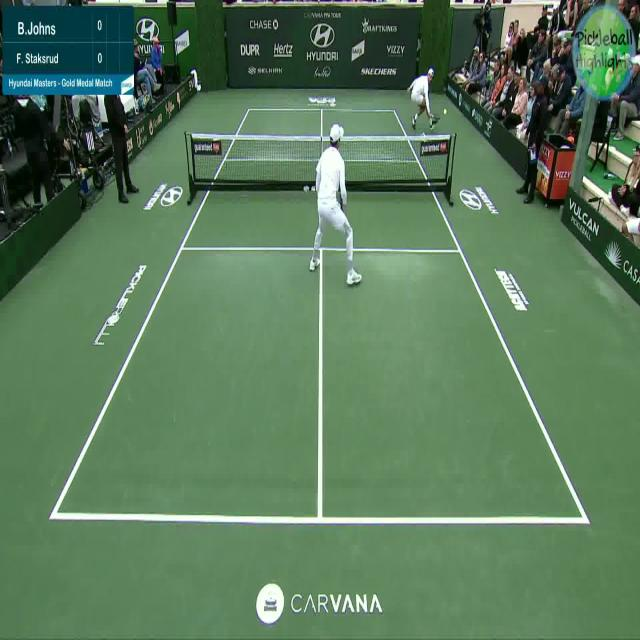ball: (442, 106, 448, 119)
